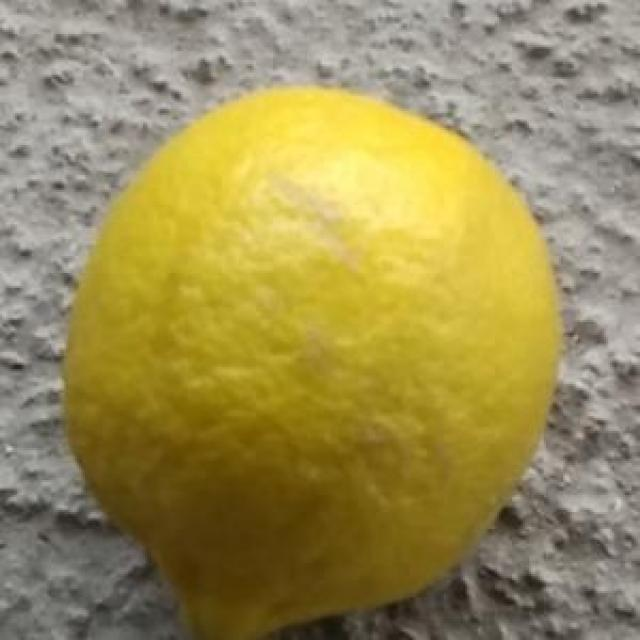lemon: (62, 86, 565, 638)
